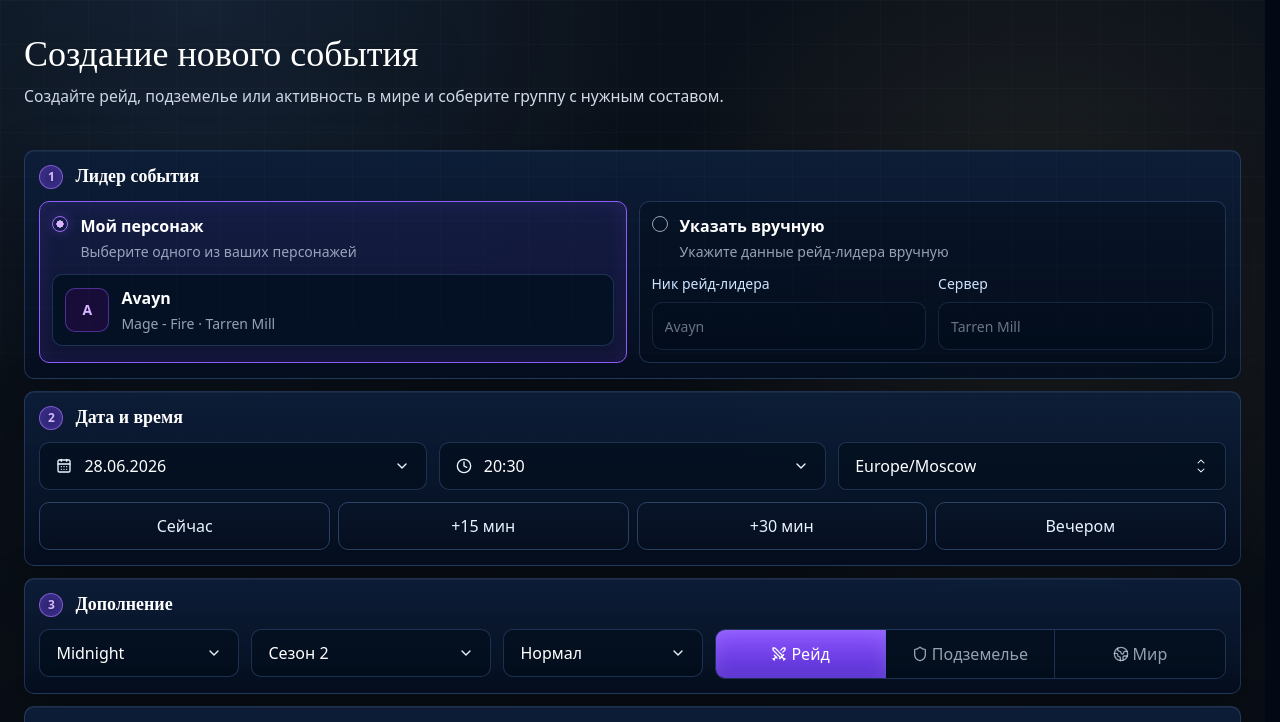
Test: CreateEventForm › searches and selects an IANA time zone
Step 1. Click the dropdown → [916, 466], box 838,442 -> 1226,490
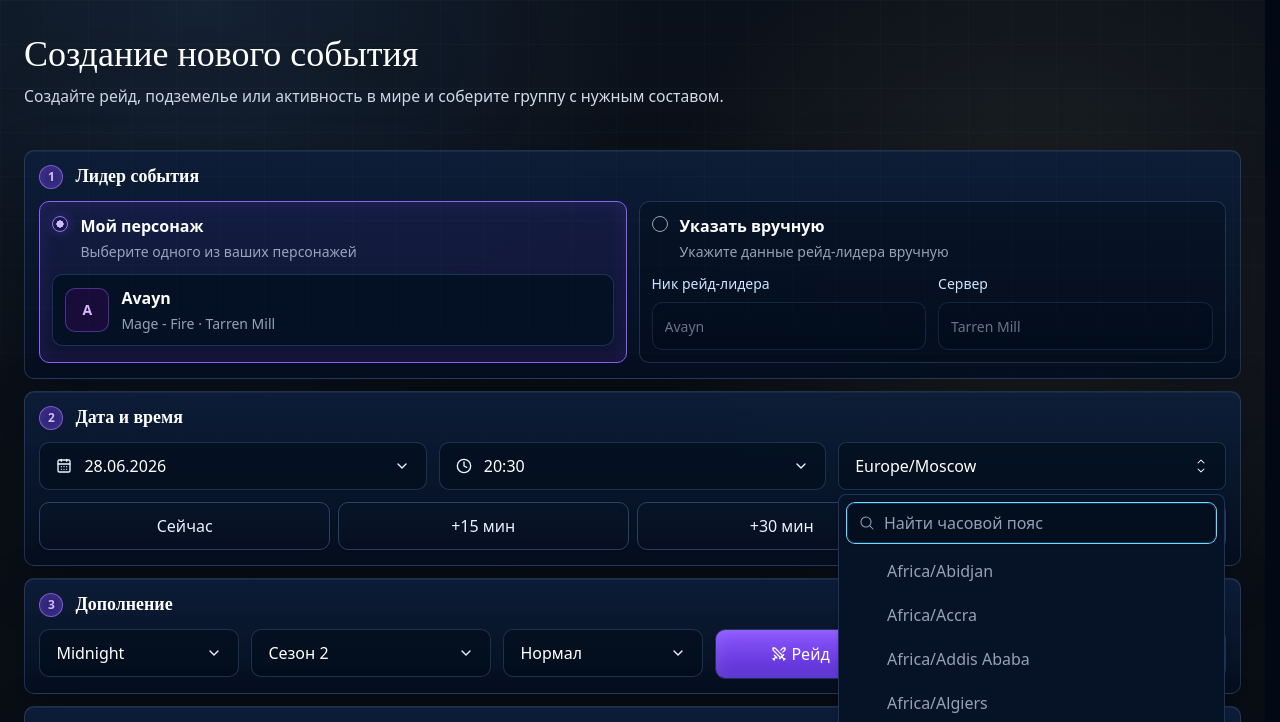
Step 2. Type "Almaty" into the field named "Поиск часового пояса" → [1032, 523], box 847,503 -> 1216,543
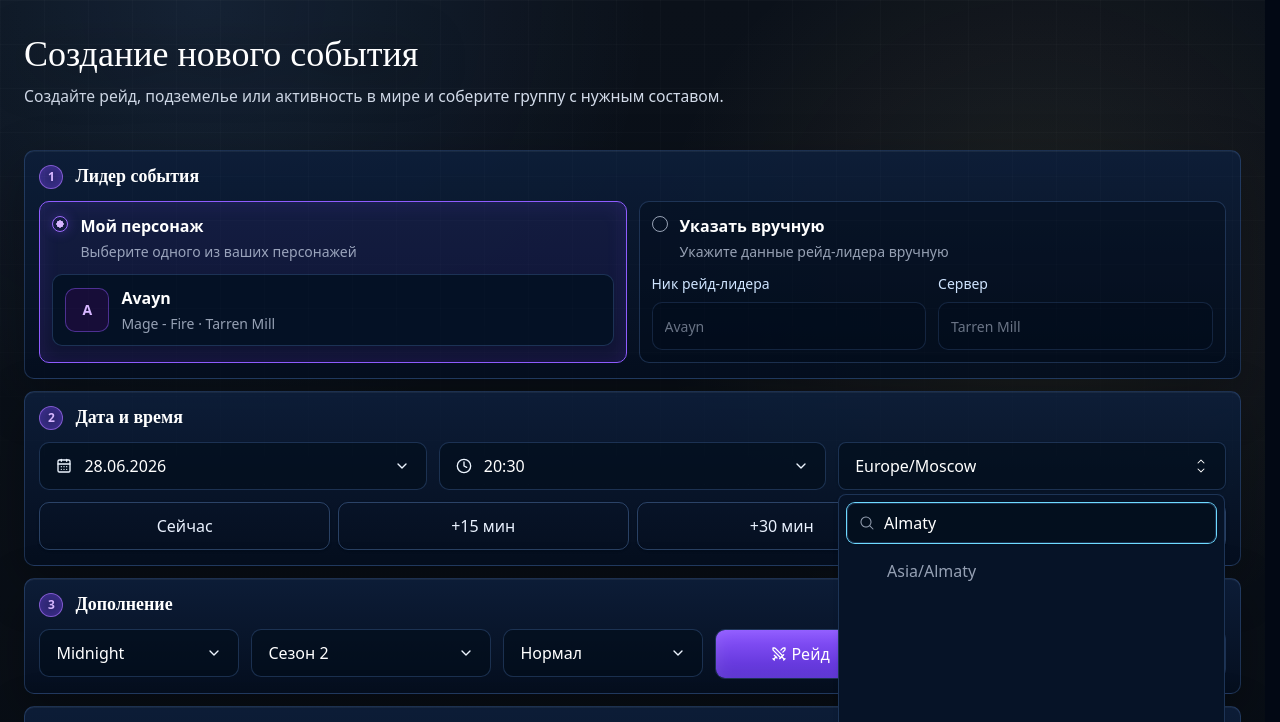
Step 3. Click the option "Asia/Almaty" → [932, 571], box 847,551 -> 1204,591
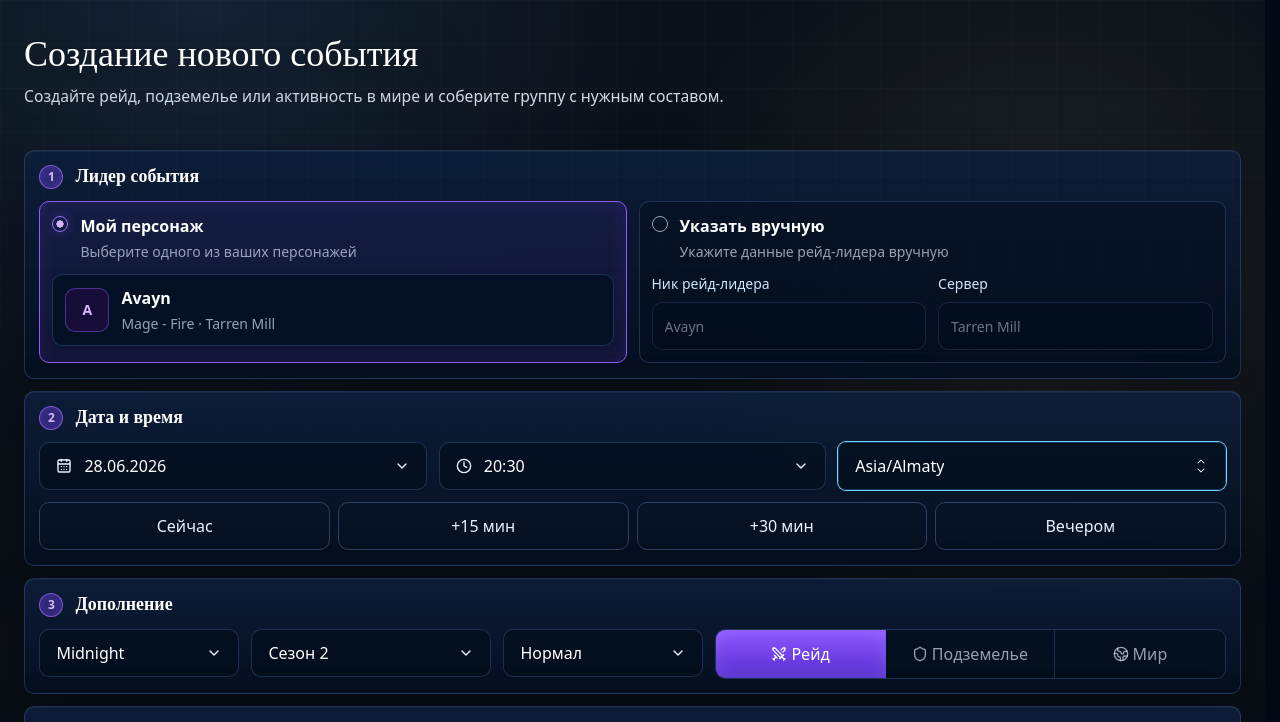
Now the dropdown reads "Asia/Almaty", box 838,442 -> 1226,490
